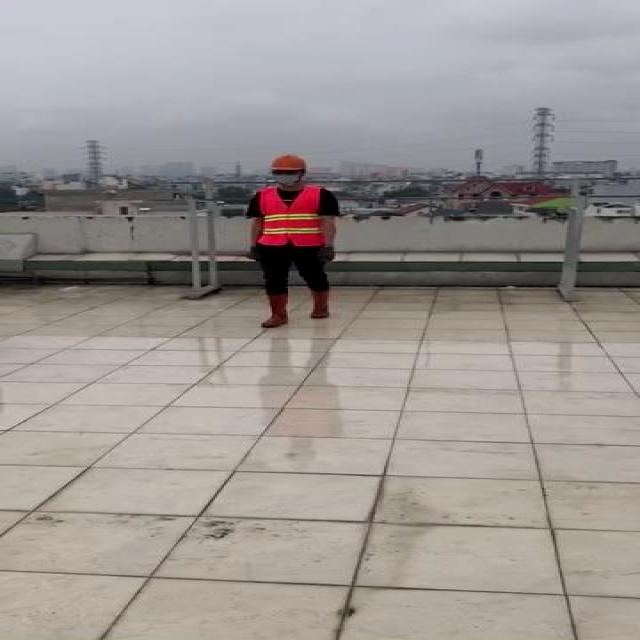boots: (256, 291, 290, 329), (306, 288, 334, 319)
face_mask: (272, 168, 302, 185)
glasses: (271, 168, 303, 176)
hand_glove: (316, 247, 338, 263), (249, 249, 265, 267)
head_helmet: (268, 153, 310, 172)
person: (238, 152, 342, 332)
vest: (256, 187, 322, 247)
